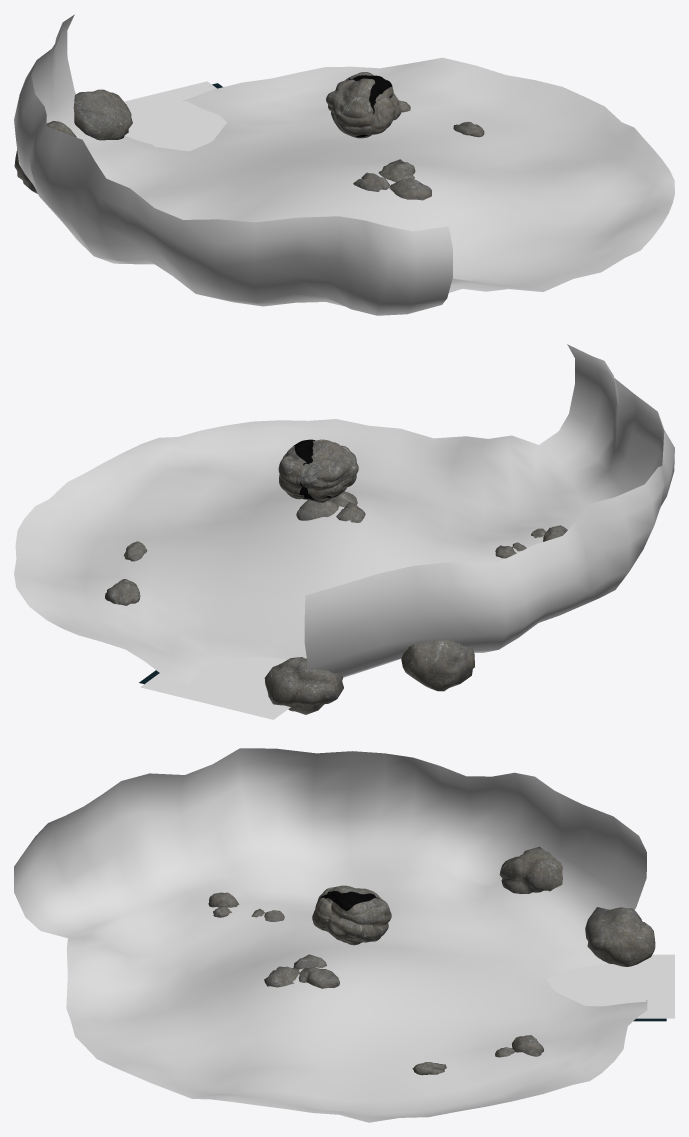
The picture shows the model from 3 angles, top to bottom: view 1: azimuth 30°, elevation 25°; view 2: azimuth 150°, elevation 25°; view 3: azimuth 270°, elevation 25°; orthographic projection. The views are drawn at different scales.
Visible parts, largest first — view 1: Cube, Plane, rockhigh, rocklow.008, rocklow.001, rocklow, rocklow.006, rocklow.002; view 2: Cube, Plane, rockhigh, rocklow.008, rocklow.006, rocklow.004, rocklow; view 3: Cube, Plane, rockhigh, rocklow.008, rocklow.006, rocklow.
Boxes of the visible parts, x1,y1,x2,y2 form: Cube: (14,14,674,315); Plane: (124,81,227,151); rockhigh: (326,72,401,138); rocklow.008: (73,89,132,140); rocklow.001: (389,178,431,200); rocklow: (378,159,415,181); rocklow.006: (14,121,76,193); rocklow.002: (353,172,389,191); Cube: (14,344,674,686); Plane: (140,656,290,719); rockhigh: (278,439,358,502); rocklow.008: (264,657,343,714); rocklow.006: (401,639,474,691); rocklow.004: (105,582,140,605); rocklow: (296,500,338,520); Cube: (14,748,647,1122); Plane: (547,954,674,1018); rockhigh: (312,885,391,945); rocklow.008: (585,907,655,966); rocklow.006: (499,846,562,893); rocklow: (298,967,339,988).
Size of the model in its own units: 170 by 42.65 by 178.
Materials: 3 (2 with a texture image).
